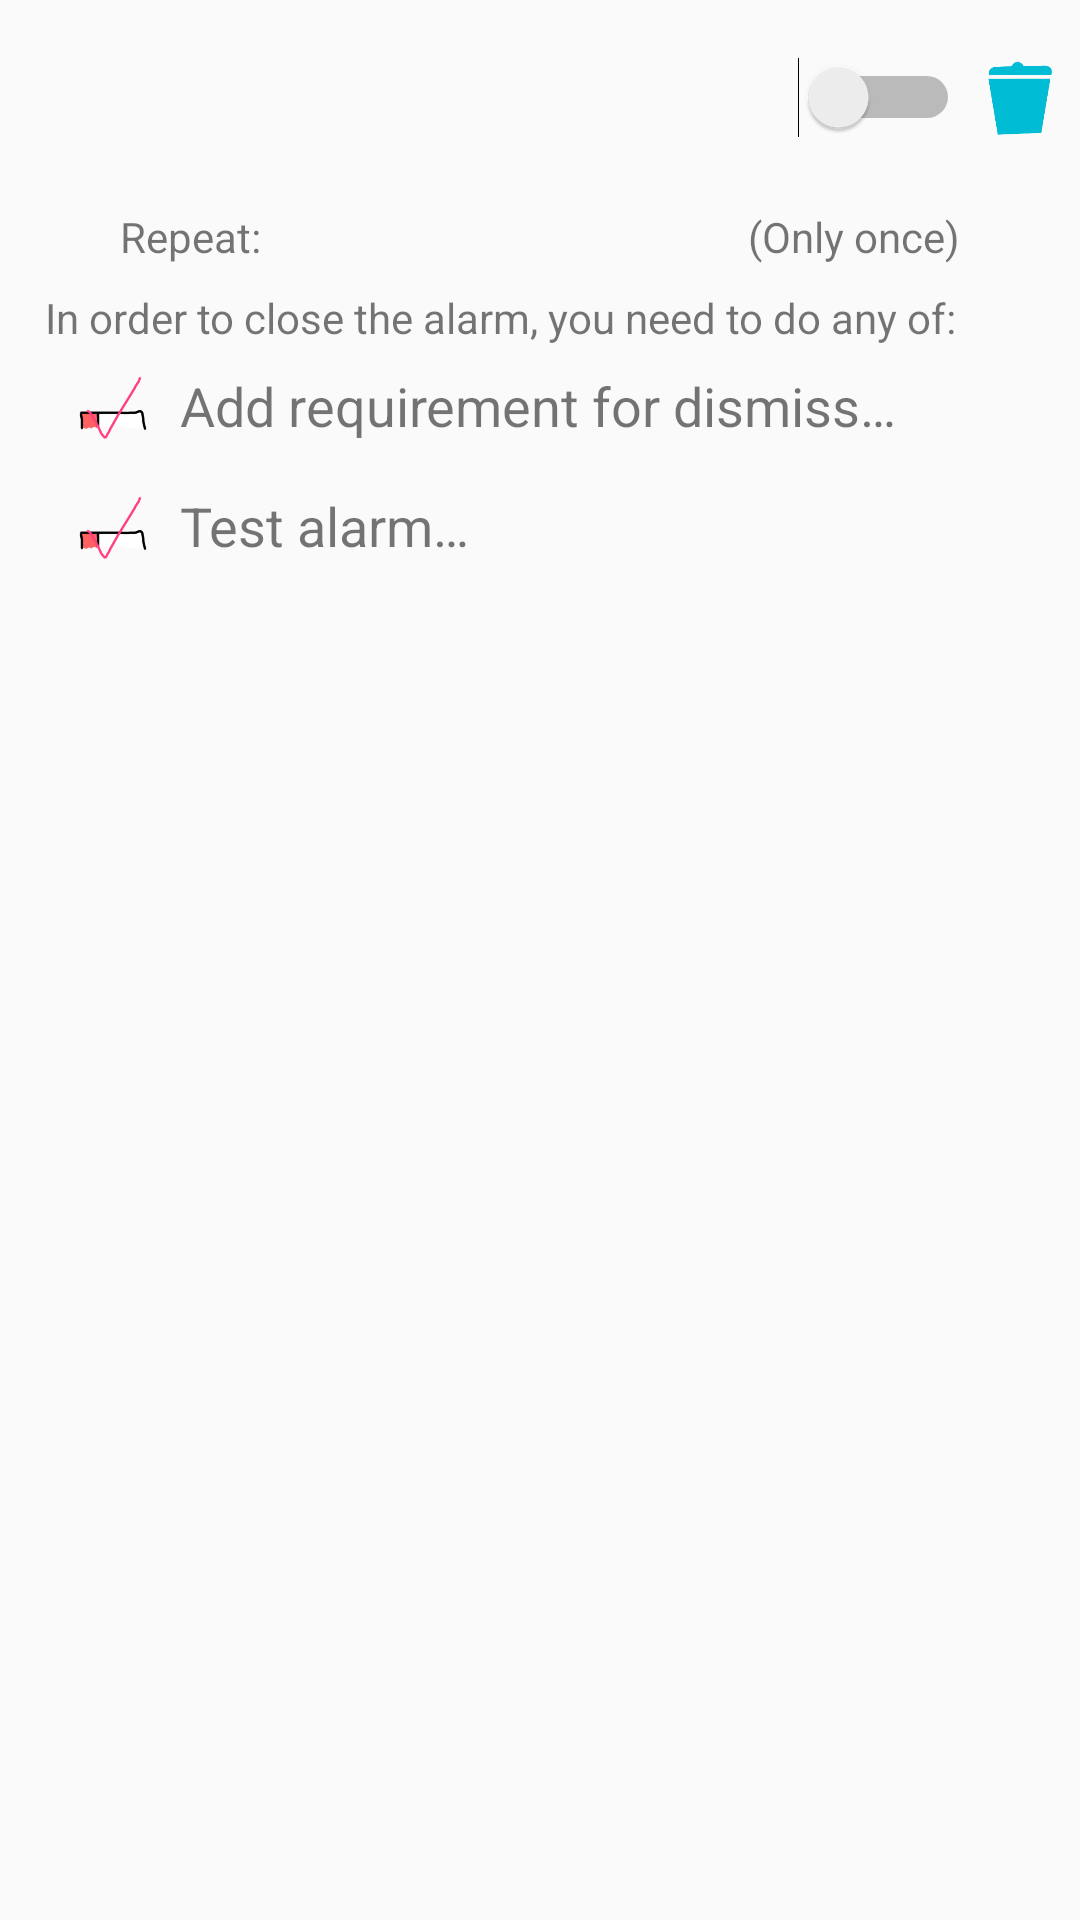

Named icons in this screenshot (1080px x 1920px) and their centers, point (x, y):
rubbishbin: point (1020, 98)
